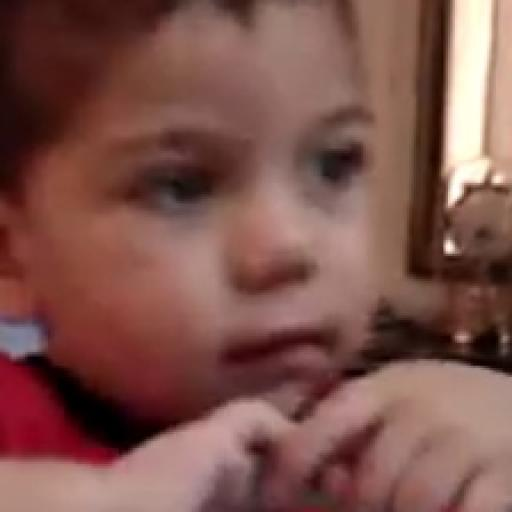Autism: (0, 0, 478, 375)
